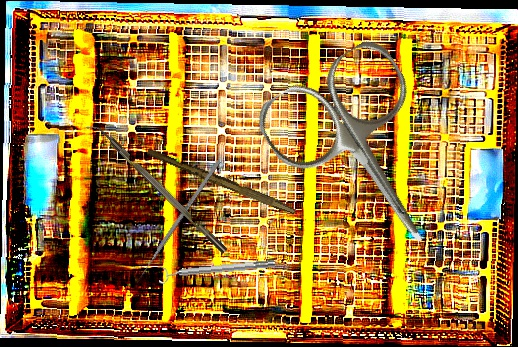Chopper: (84, 117, 228, 261)
Fixation Ring: (157, 254, 276, 285)
Iris Scissors: (249, 33, 483, 282)
Pusher: (135, 159, 221, 284)
Scalpel Handle: (145, 146, 298, 216)
